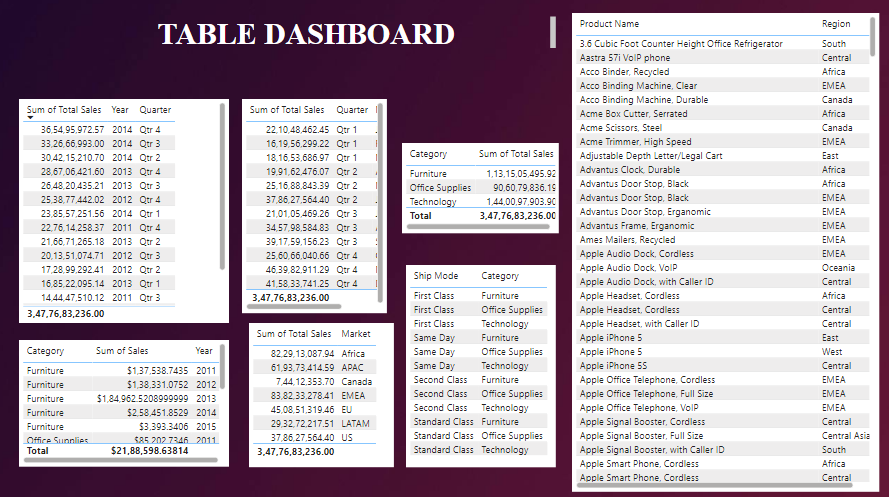

What the dashboard file says about the page in this screenshot:
{"tool":"powerbi","page":{"name":"Page 3","canvas":[1280,720],"ordinal":2},"visuals":[{"type":"tableEx","fields":{"Values":["Orders.Category","Sum(Orders.Sales)","Orders.Ship Date.Variation.Date Hierarchy.Year"]},"box":[31.4,485.7,300,181.4],"z":0},{"type":"tableEx","fields":{"Values":["Sum(Orders.Total Sales)","Orders.Market"]},"box":[360,461.4,207.1,205.7],"z":1000},{"type":"tableEx","fields":{"Values":["Orders.Ship Mode","Orders.Category"]},"box":[584.3,378.6,214.3,288.6],"z":2000},{"type":"tableEx","fields":{"Values":["Orders.Category","Sum(Orders.Total Sales)"]},"box":[578.6,204.3,224.3,128.6],"z":3000},{"type":"tableEx","fields":{"Values":["Orders.Product Name","Orders.Region"]},"box":[821.4,18.6,438.6,684.3],"z":4000},{"type":"tableEx","fields":{"Values":["Sum(Orders.Total Sales)","Orders.Ship Date.Variation.Date Hierarchy.Year","Orders.Ship Date.Variation.Date Hierarchy.Quarter"]},"box":[31.4,141.4,300,320],"z":5000},{"type":"tableEx","fields":{"Values":["Sum(Orders.Total Sales)","Orders.Order Date.Variation.Date Hierarchy.Quarter","Orders.Order Date.Variation.Date Hierarchy.Month"]},"box":[350,141.4,207.1,305.7],"z":6000},{"type":"textbox","box":[224.3,18.6,578.6,57.1],"z":6001}]}

Visuals, with their boxes in screenshot pixels (x1, y1, x2, y2), scaled from the page's 1280x720 canvas onto the 889x497 screenshot:
tableEx - Orders.Category x Sum(Orders.Sales): box=[22, 335, 230, 460]
tableEx - Sum(Orders.Total Sales) x Orders.Market: box=[250, 318, 394, 460]
tableEx - Orders.Ship Mode x Orders.Category: box=[406, 261, 555, 461]
tableEx - Orders.Category x Sum(Orders.Total Sales): box=[402, 141, 558, 230]
tableEx - Orders.Product Name x Orders.Region: box=[570, 13, 875, 485]
tableEx - Sum(Orders.Total Sales) x Orders.Ship Date.Variation.Date Hierarchy.Year: box=[22, 98, 230, 318]
tableEx - Sum(Orders.Total Sales) x Orders.Order Date.Variation.Date Hierarchy.Quarter: box=[243, 98, 387, 309]
textbox: box=[156, 13, 558, 52]
